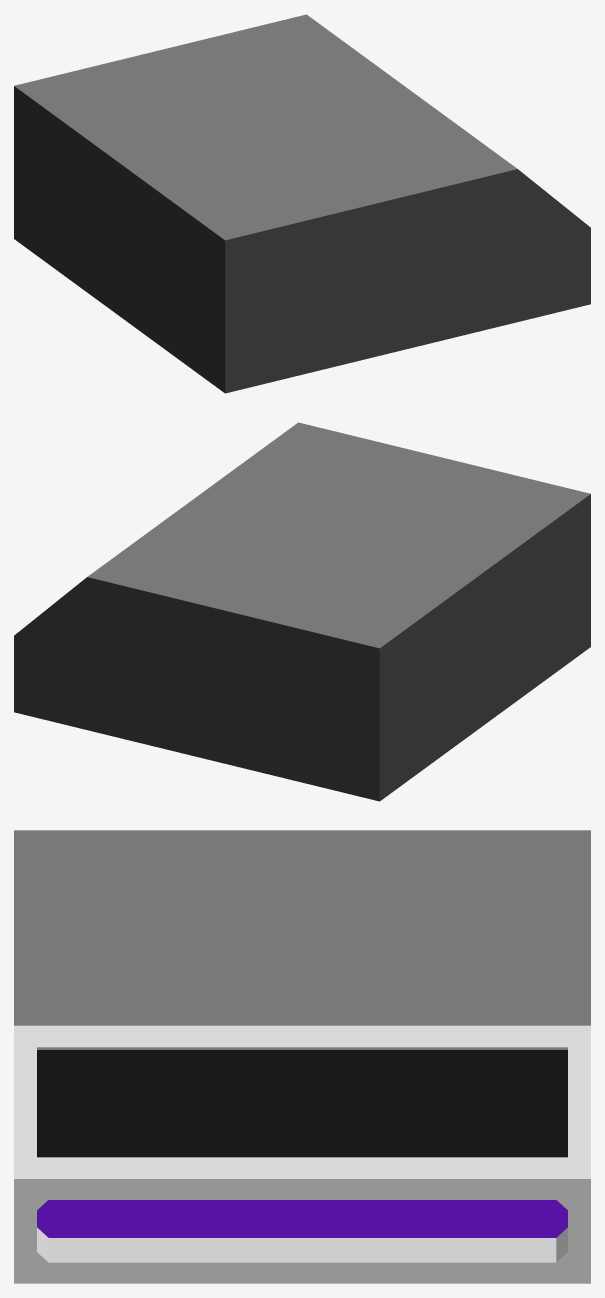
The model's file is PlatformBorder00b_2.5.fbx.
3 views of the same model, one above another, from view 1: azimuth 30°, elevation 25°; view 2: azimuth 150°, elevation 25°; view 3: azimuth 270°, elevation 25° (orthographic). The views are drawn at different scales.
Visible parts, largest first — view 1: PlatformBorder00b_2; view 2: PlatformBorder00b_2; view 3: PlatformBorder00b_2.
Part boxes in pixels (x1=…): PlatformBorder00b_2: x1=14, y1=14, x2=590, y2=393; PlatformBorder00b_2: x1=14, y1=422, x2=590, y2=801; PlatformBorder00b_2: x1=14, y1=830, x2=590, y2=1283.
Size of the model in its own units: 250 by 100 by 250.
